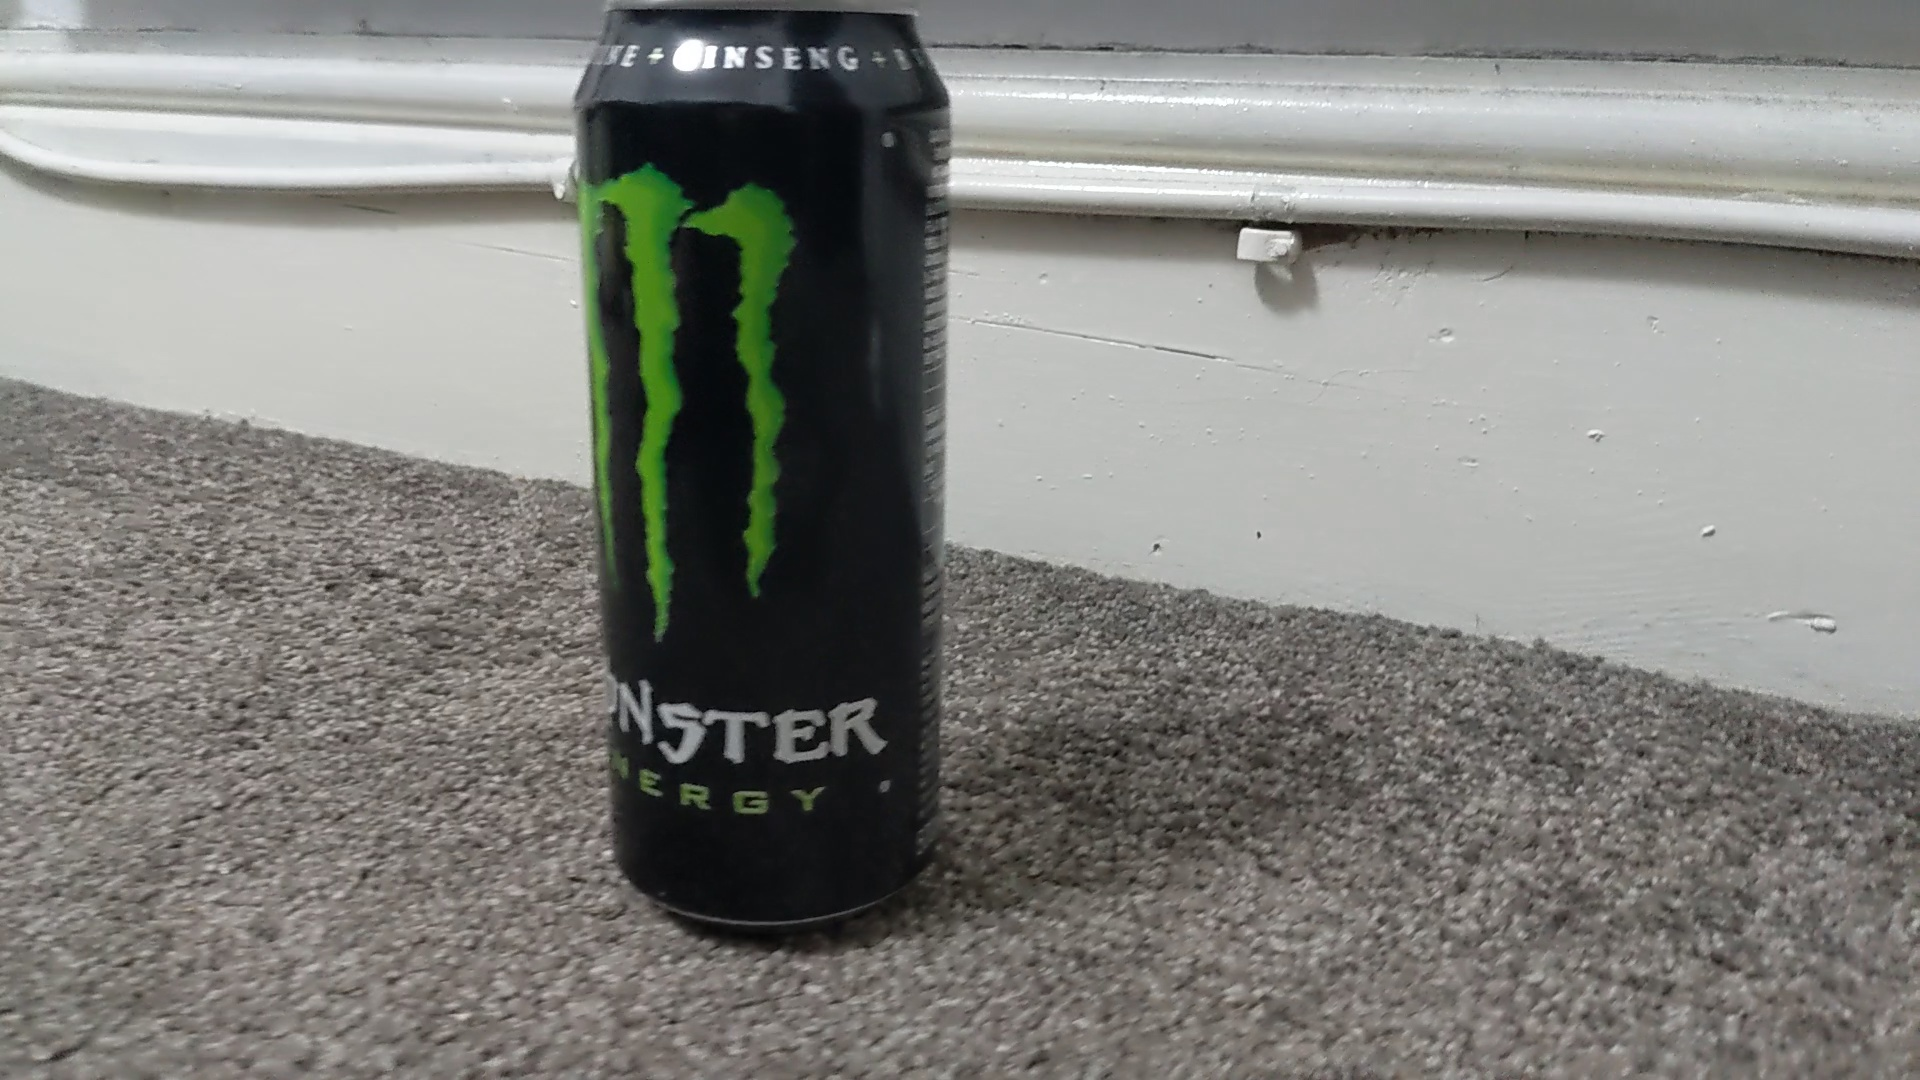monster-original: (572, 1, 952, 935)
